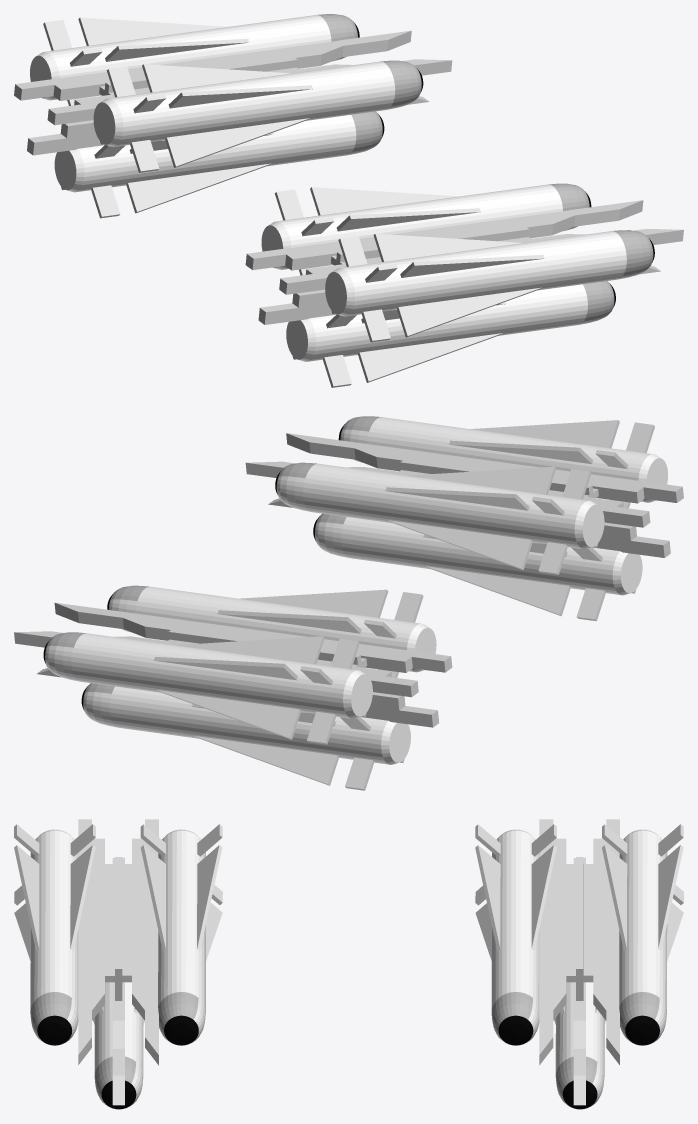
File: a10cagm65351.glb
The picture shows the model from 3 angles, top to bottom: view 1: azimuth 30°, elevation 25°; view 2: azimuth 150°, elevation 25°; view 3: azimuth 270°, elevation 25°; orthographic projection.
Visible parts, largest first — view 1: 立方体.003, 立方体.005, 立方体.008, 立方体.007, 立方体.006, 立方体.004, 立方体.002, 立方体.001; view 2: 立方体.006, 立方体.004, 立方体.007, 立方体.008, 立方体.003, 立方体.005, 立方体.002, 立方体.001; view 3: 立方体.002, 立方体.001, 立方体.005, 立方体.003, 立方体.004, 立方体.006, 立方体.008, 立方体.007.
Boxes of the visible parts, bbox=[...] form: 立方体.003: bbox=[93, 60, 423, 172]; 立方体.005: bbox=[325, 230, 654, 342]; 立方体.008: bbox=[54, 111, 384, 218]; 立方体.007: bbox=[286, 281, 615, 387]; 立方体.006: bbox=[261, 183, 591, 275]; 立方体.004: bbox=[30, 14, 359, 105]; 立方体.002: bbox=[14, 30, 452, 155]; 立方体.001: bbox=[245, 200, 683, 324]; 立方体.006: bbox=[275, 462, 604, 574]; 立方体.004: bbox=[43, 632, 372, 744]; 立方体.007: bbox=[313, 513, 642, 621]; 立方体.008: bbox=[81, 683, 410, 790]; 立方体.003: bbox=[107, 585, 436, 677]; 立方体.005: bbox=[338, 416, 667, 508]; 立方体.002: bbox=[14, 602, 452, 727]; 立方体.001: bbox=[245, 433, 683, 557]; 立方体.002: bbox=[539, 819, 619, 1105]; 立方体.001: bbox=[78, 819, 158, 1105]; 立方体.005: bbox=[14, 824, 95, 1045]; 立方体.003: bbox=[475, 824, 556, 1045]; 立方体.004: bbox=[602, 824, 683, 1045]; 立方体.006: bbox=[140, 824, 222, 1045]; 立方体.008: bbox=[554, 982, 605, 1109]; 立方体.007: bbox=[93, 982, 144, 1109].
Size of the model in its own units: 3.2 by 1.18 by 4.64.
6 materials, 1 textured.
